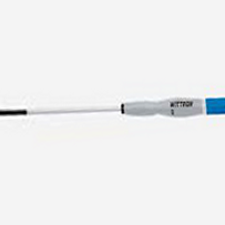screwdriver: (1, 81, 225, 133)
